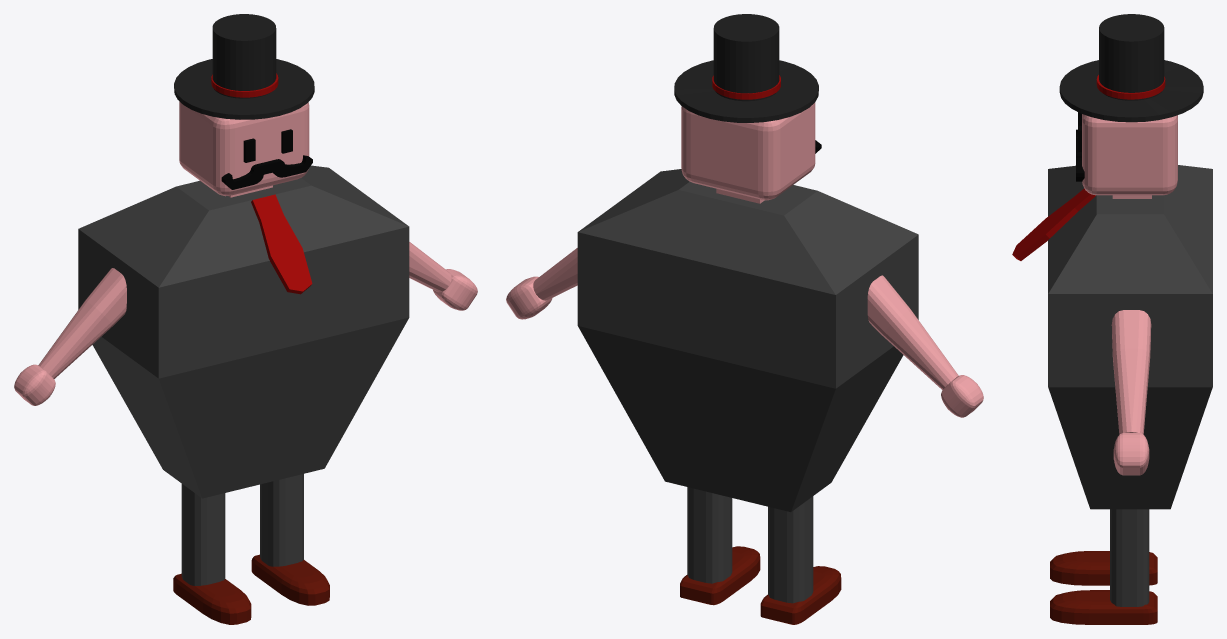
Rendered from Mayor.fbx.
3 views of the same model, side by side, from view 1: azimuth 30°, elevation 25°; view 2: azimuth 150°, elevation 25°; view 3: azimuth 270°, elevation 25° (orthographic). The views are drawn at different scales.
Visible parts, largest first — view 1: Cube.185; view 2: Cube.185; view 3: Cube.185.
Part boxes in pixels (bbox=[...]): Cube.185: bbox=[14, 14, 477, 624]; Cube.185: bbox=[506, 14, 983, 624]; Cube.185: bbox=[1012, 14, 1212, 624].
Size of the model in its own units: 1336 by 1563 by 499.
